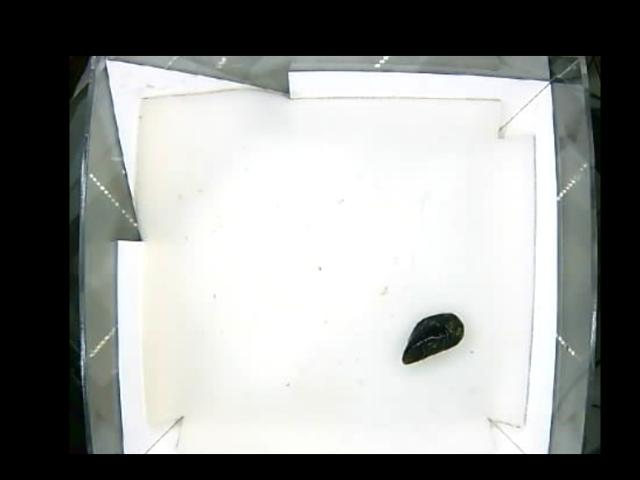Shell: (400, 313, 465, 363)
